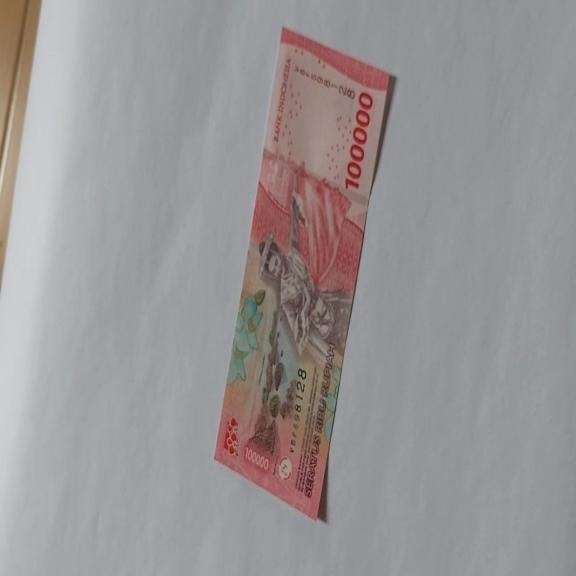Kertas: (212, 25, 396, 521), (344, 90, 373, 192)
